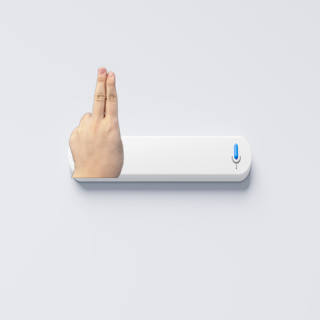DHAVE: (67, 63, 127, 177)
